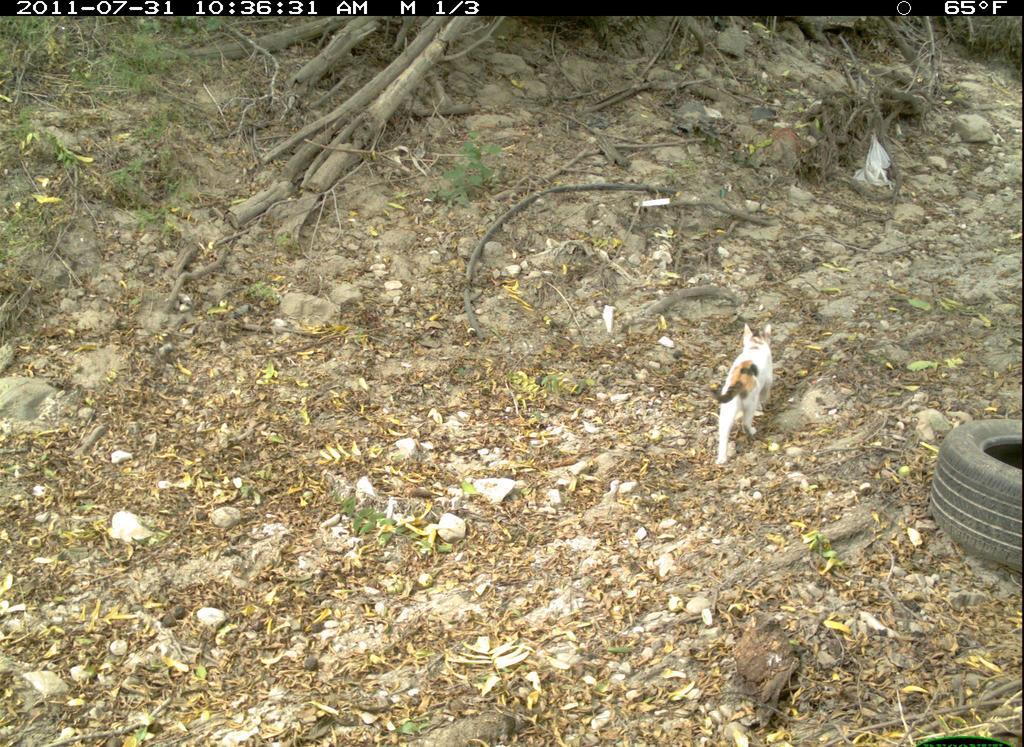cat: (708, 321, 784, 469)
